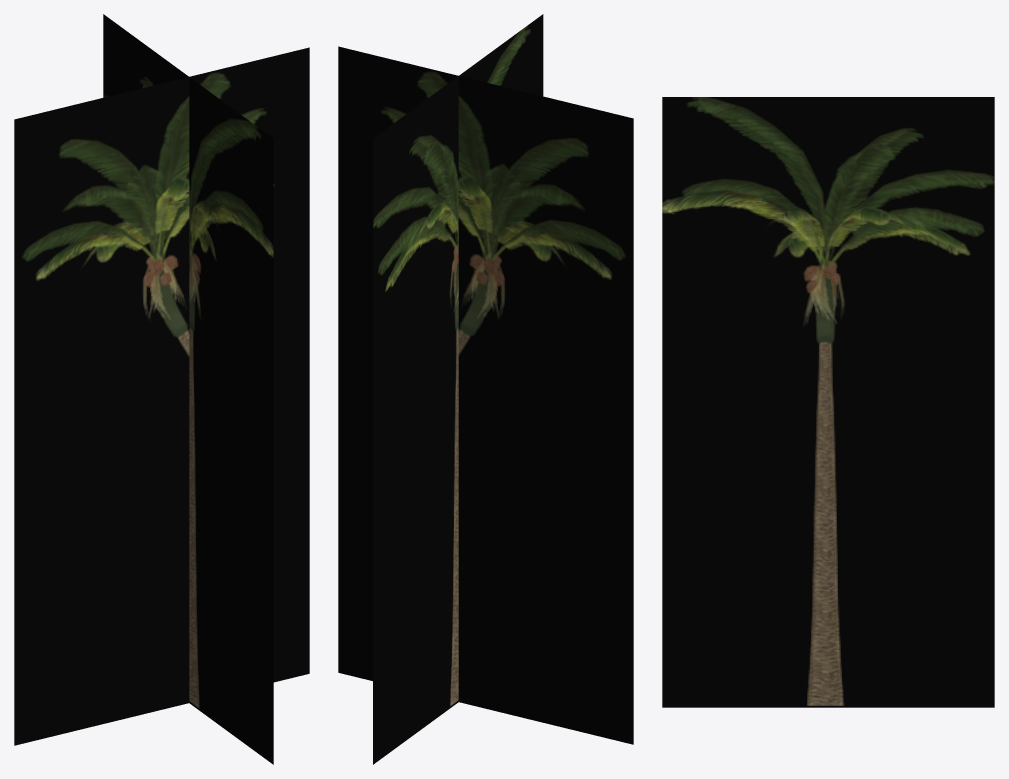
File: kin_2s_LOD2.fbx
3 views of the same model, side by side, from view 1: azimuth 30°, elevation 25°; view 2: azimuth 150°, elevation 25°; view 3: azimuth 270°, elevation 25° (orthographic). The views are drawn at different scales.
Parts seen in each view (by area): view 1: kin_LOD2; view 2: kin_LOD2; view 3: kin_LOD2.
Boxes of the visible parts, box(x1,y1,x2,y2) form: kin_LOD2: box(14, 14, 309, 764); kin_LOD2: box(338, 14, 633, 764); kin_LOD2: box(662, 97, 994, 707).
Bounding box in the file's own units: 2563 × 5200 × 2563.
